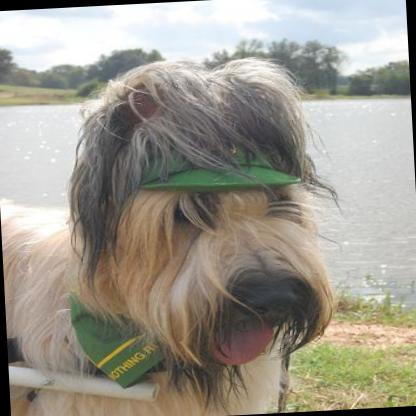briard: (0, 49, 347, 416)
